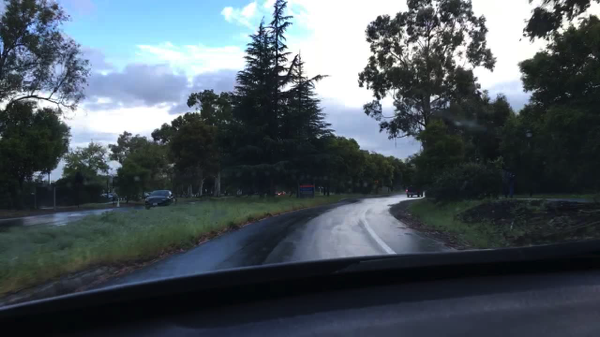car: (145, 190, 177, 209), (405, 186, 423, 198), (273, 191, 286, 196), (102, 193, 112, 198)
person: (287, 190, 293, 199)
